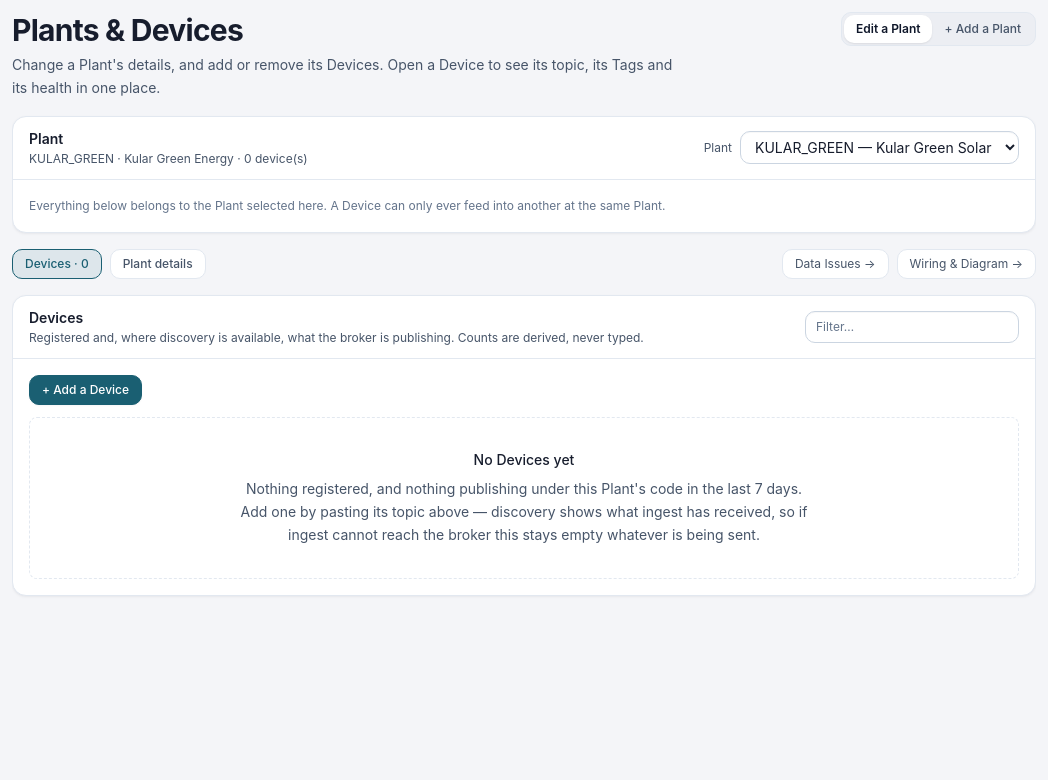
Plants: adding and editing are separate, findable jobs › keeps the create form out of the edit screen entirely
This screenshot has width=1048, height=780.
Expected: the heading "New Plant" is not shown
Click the radio button labelled "+ Add a Plant" at {"x": 983, "y": 29}, box 932,15 -> 1033,43
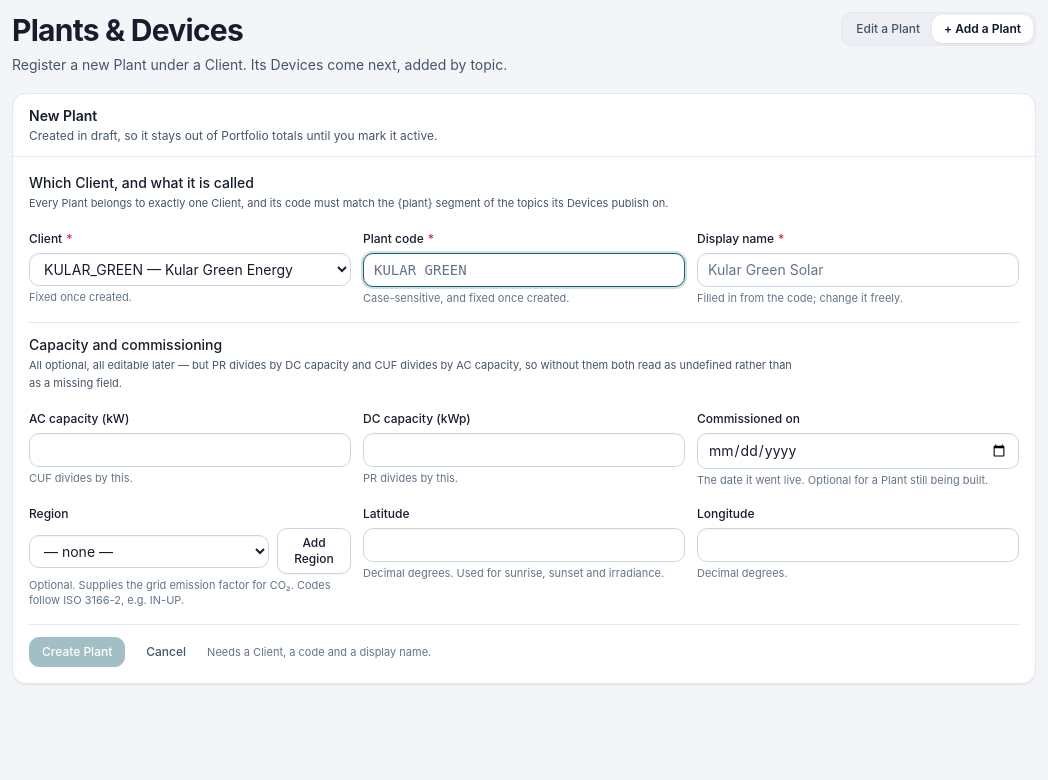
Result: the heading "New Plant" is shown at 29,107 -> 97,124
Result: the button "Add a Device" is gone
